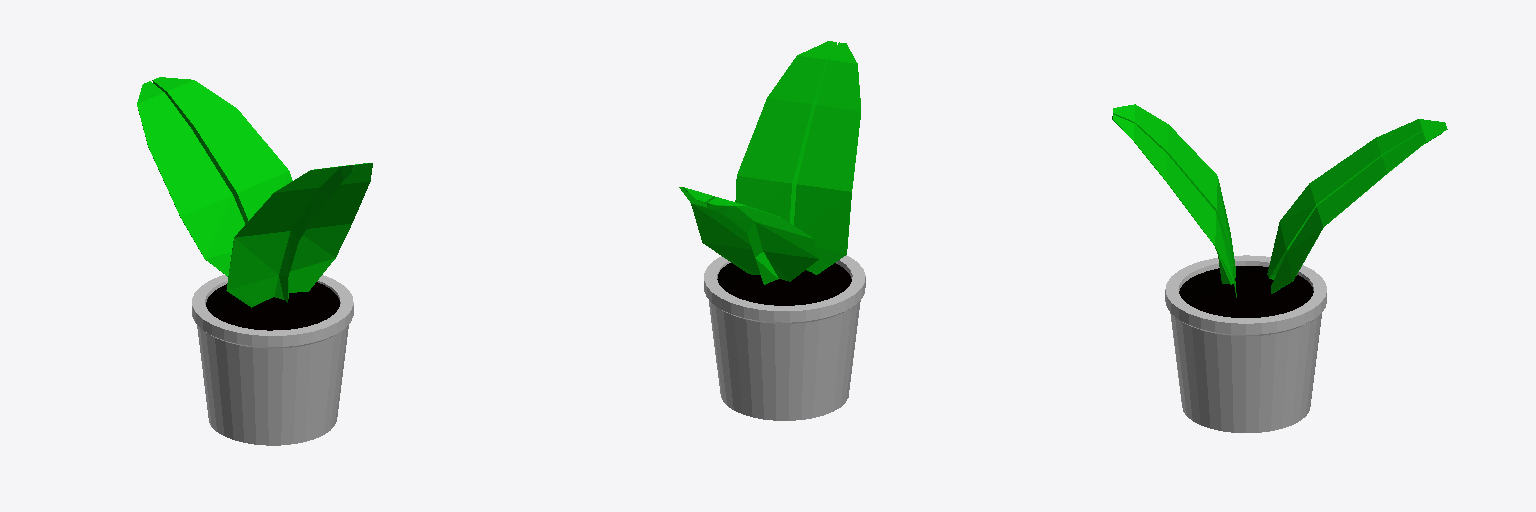
File: flowerpot.obj
The picture shows the model from 3 angles: view 1: azimuth 30°, elevation 25°; view 2: azimuth 150°, elevation 25°; view 3: azimuth 270°, elevation 25°; orthographic projection.
Parts seen in each view (by area): view 1: Pot_Cylinder.001; view 2: Pot_Cylinder.001; view 3: Pot_Cylinder.001.
Part boxes in pixels (bbox=[...]): Pot_Cylinder.001: bbox=[137, 77, 372, 445]; Pot_Cylinder.001: bbox=[679, 41, 865, 420]; Pot_Cylinder.001: bbox=[1112, 104, 1447, 432].
Bounding box in the file's own units: 0.5036 × 1.03 × 1.04.